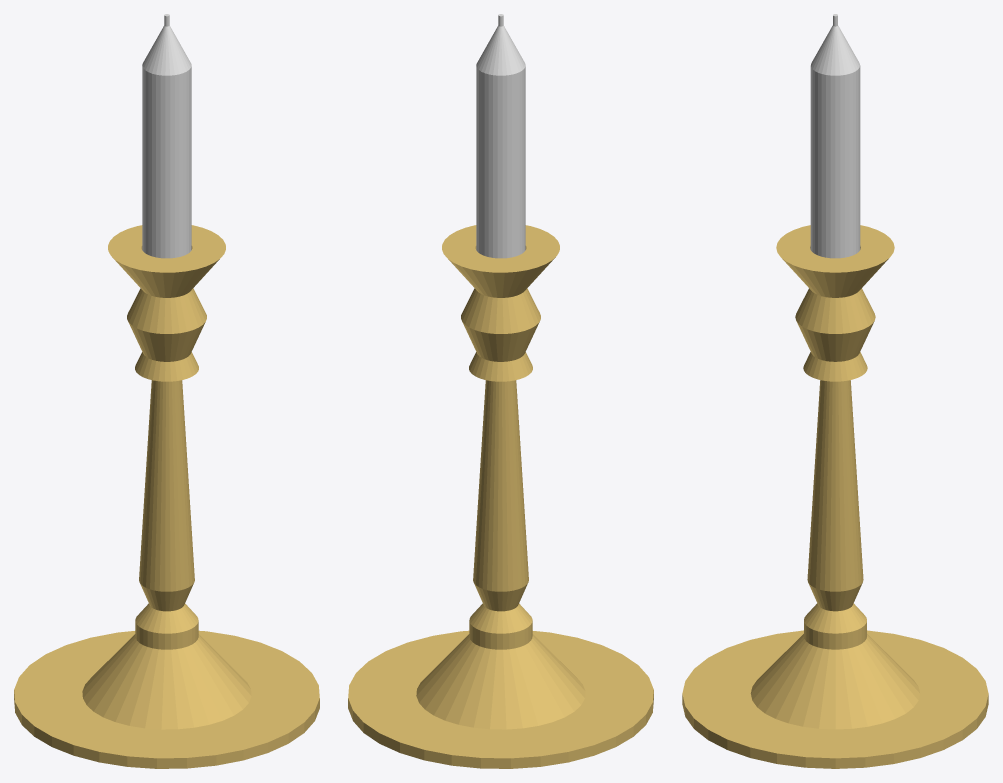
Rendered from Candlestick.fbx.
3 views of the same model, side by side, from view 1: azimuth 30°, elevation 25°; view 2: azimuth 150°, elevation 25°; view 3: azimuth 270°, elevation 25° (orthographic).
Parts seen in each view (by area): view 1: Candlestick; view 2: Candlestick; view 3: Candlestick.
Boxes of the visible parts, <box> form: Candlestick: <box>14,14,319,768</box>; Candlestick: <box>348,14,653,768</box>; Candlestick: <box>682,14,988,768</box>.
Bounding box in the file's own units: 359 × 891 × 359.
